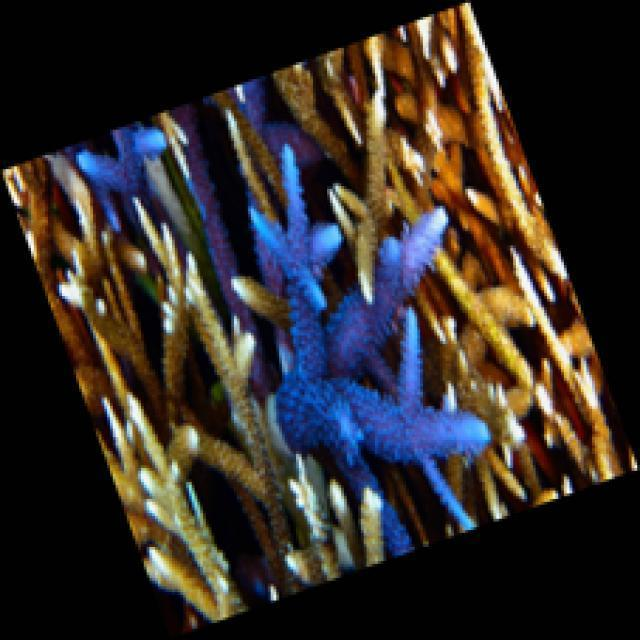Healthy: (275, 2, 640, 549), (1, 125, 333, 640), (159, 75, 494, 570), (68, 115, 166, 239)
